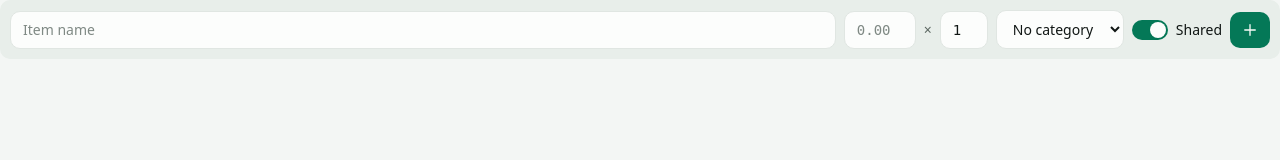
Test: QuickAddBar › does not add and shows the amount hint on Enter in the name field when amount is missing
The image size is (1280, 160).
Type "Milk" into the dropdown with placeholder "Item name".
click(423, 30); type("Milk")  # box [10,10,836,48]
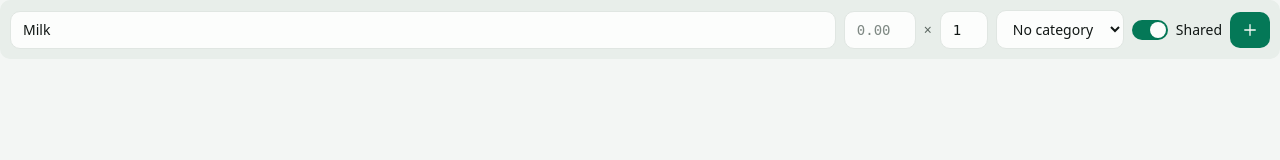
Press Enter in the 1st dropdown with placeholder "Item name", box [10,10,836,48]
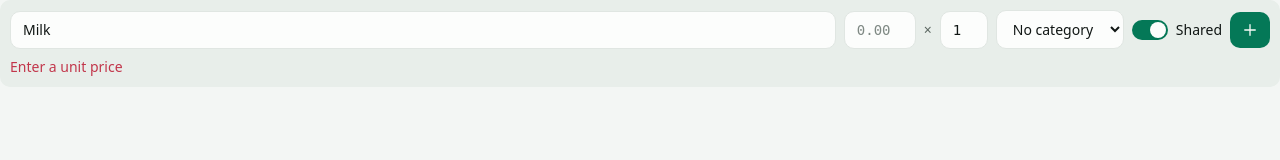
Now the text "Enter a unit price" is shown, box [10,57,122,76]
